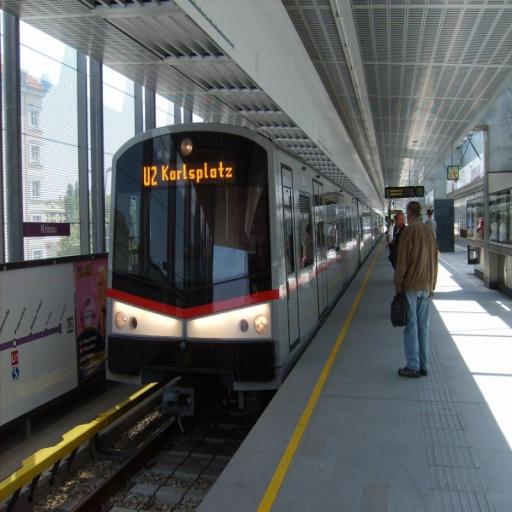V-Wagen: (110, 120, 384, 371)
